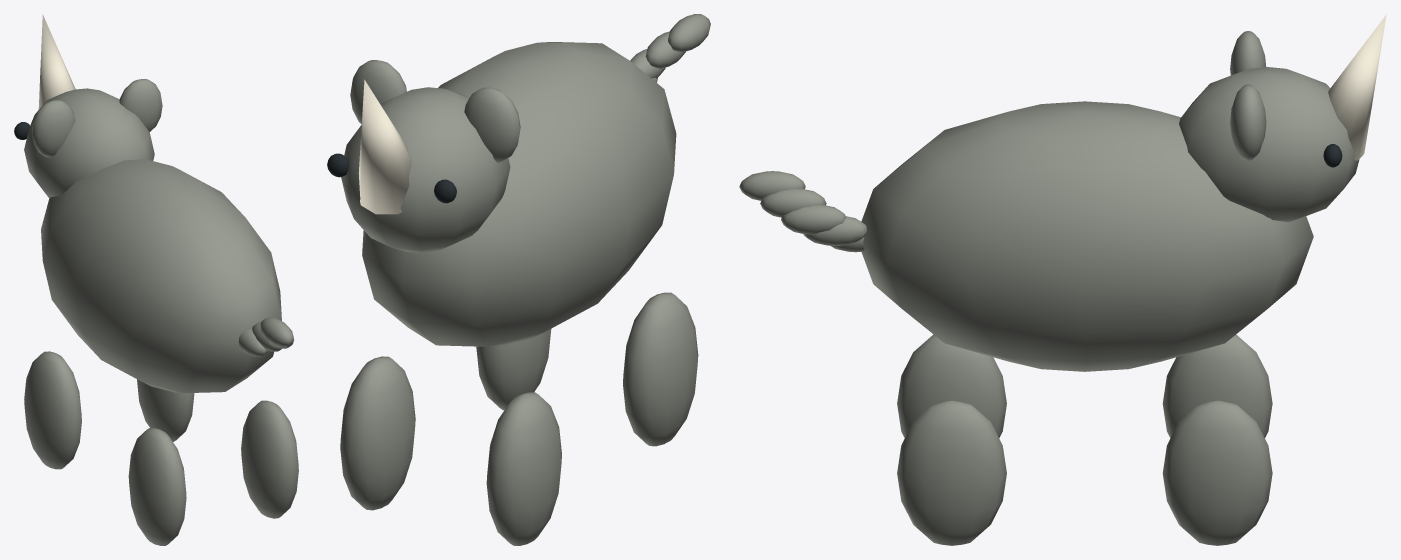
File: animal_rhino.glb
3 views of the same model, side by side, from view 1: azimuth 30°, elevation 25°; view 2: azimuth 150°, elevation 25°; view 3: azimuth 270°, elevation 25° (orthographic). The views are drawn at different scales.
Parts seen in each view (by area): view 1: Body, LegBR, LegFL, LegBL, LegFR; view 2: Body, LegFR, LegFL, LegBL, LegBR; view 3: Body, LegFR, LegBR, LegFL, LegBL.
Part boxes in pixels (x1=…): Body: x1=14, y1=14, x2=294, y2=393; LegBR: x1=241, y1=400, x2=298, y2=518; LegFL: x1=24, y1=351, x2=81, y2=469; LegBL: x1=128, y1=428, x2=186, y2=545; LegFR: x1=137, y1=379, x2=194, y2=441; Body: x1=327, y1=14, x2=710, y2=346; LegFR: x1=340, y1=356, x2=415, y2=510; LegFL: x1=486, y1=392, x2=561, y2=545; LegBL: x1=623, y1=292, x2=698, y2=446; LegBR: x1=476, y1=329, x2=551, y2=410; Body: x1=739, y1=14, x2=1386, y2=371; LegFR: x1=1162, y1=400, x2=1272, y2=545; LegBR: x1=897, y1=400, x2=1006, y2=545; LegFL: x1=1162, y1=334, x2=1272, y2=437; LegBL: x1=897, y1=334, x2=1006, y2=438.
Bounding box in the file's own units: 1.2 × 2.63 × 3.11.
